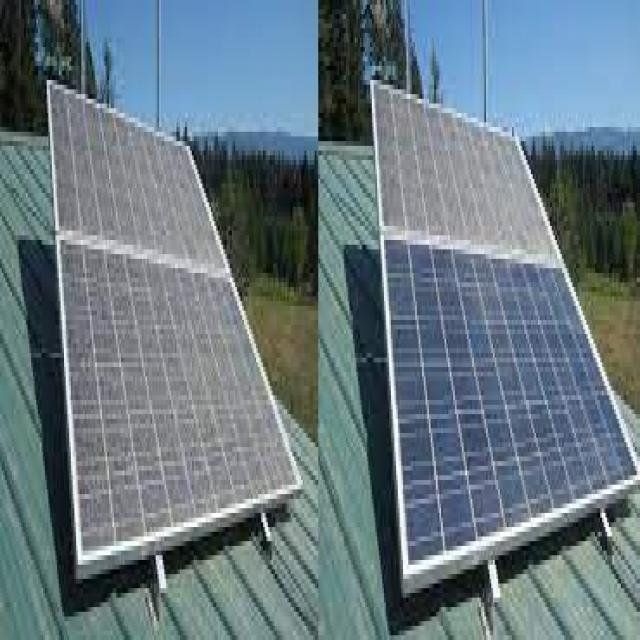faulty: (49, 84, 299, 567), (373, 80, 560, 258)
no faulty: (384, 239, 638, 573)
